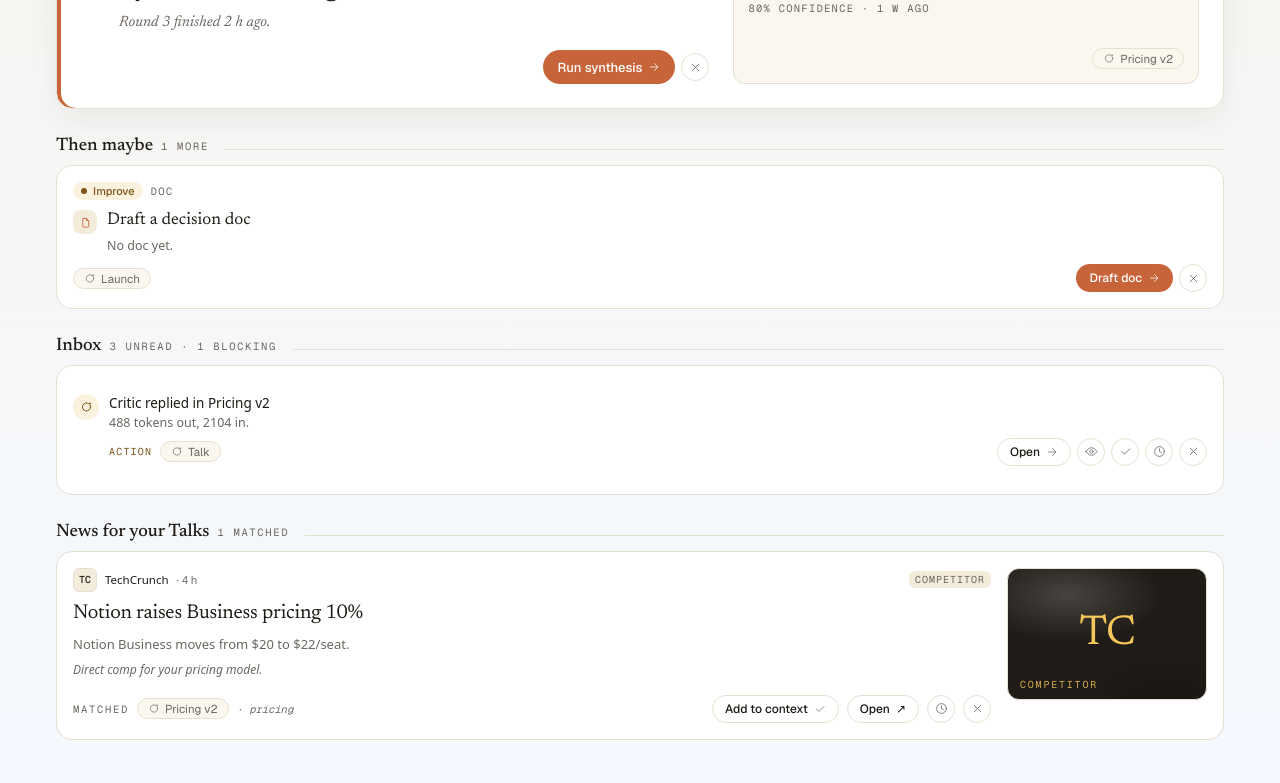
Test: HomePage › restores an inbox item and surfaces an error when the dismiss API fails
(page scrolled)
Expected: the text "Critic replied in Pricing v2" is shown, [109, 394, 270, 412]
Click the button named "Dismiss": (1193, 452) [1179, 438, 1207, 466]
(page scrolled)
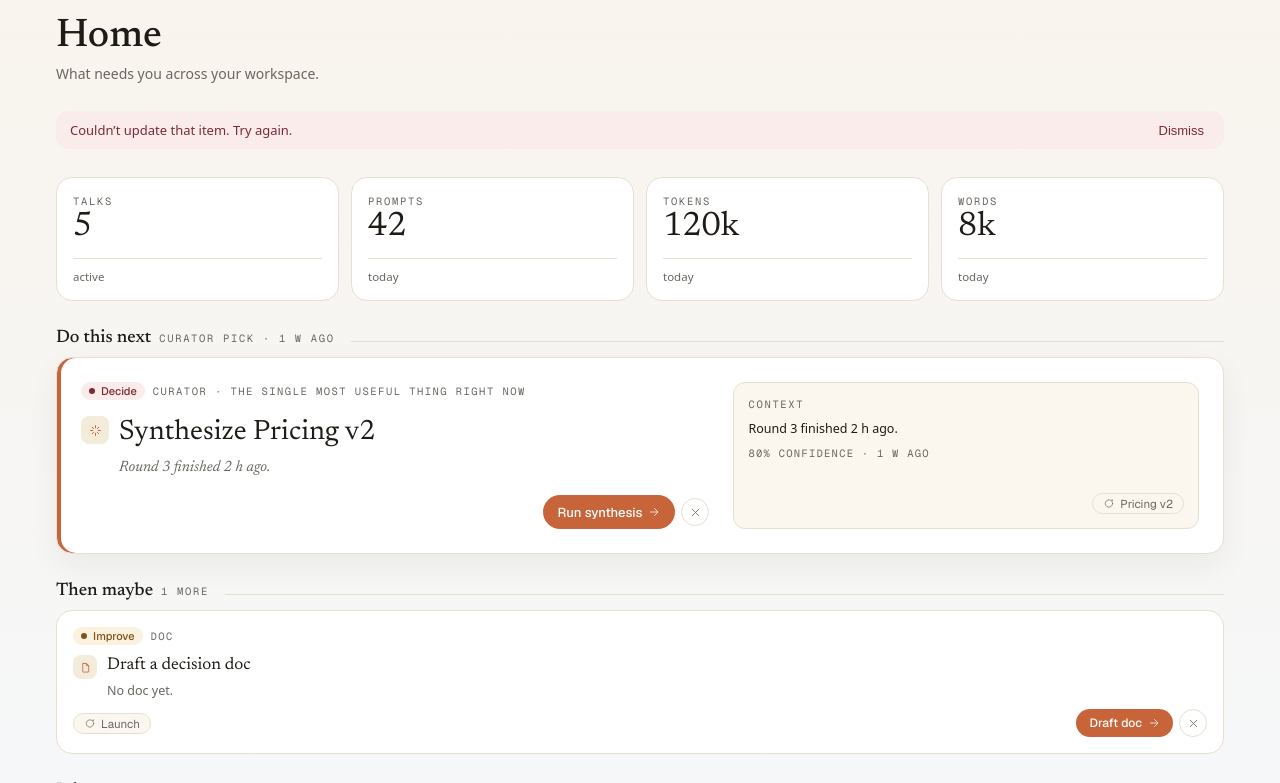
Expected: the message "Couldn’t update that item. Try again. Dismiss" is shown, [56, 111, 1224, 149]
